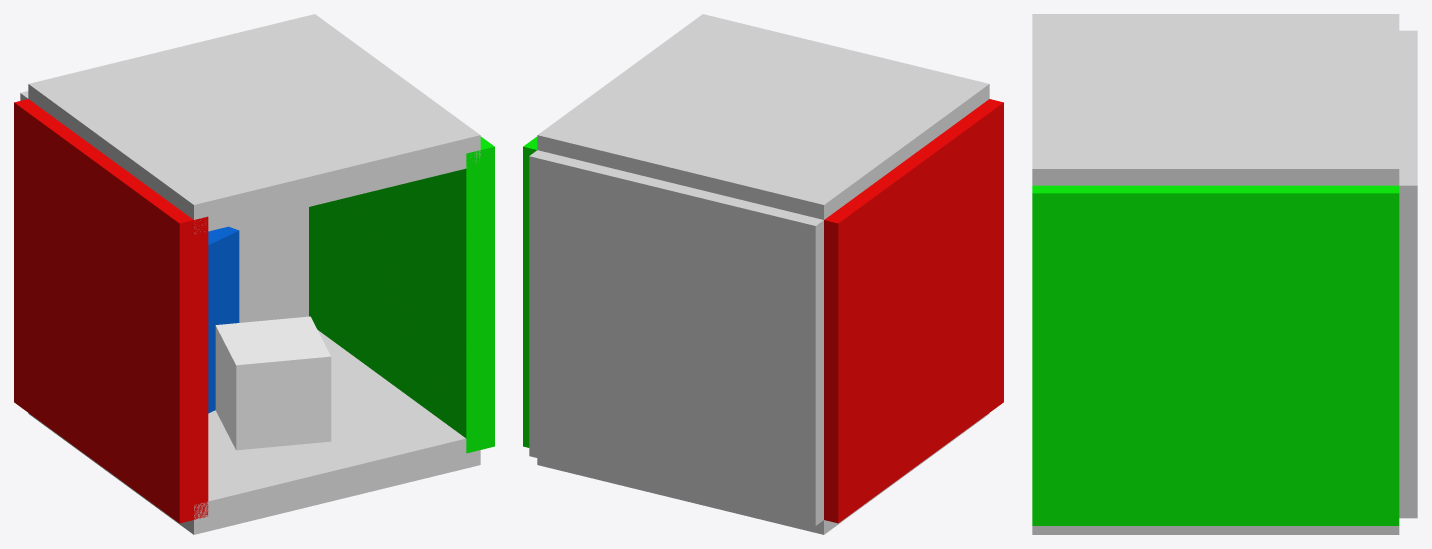
Rendered from cornell_boxes_with_mirror_2_light.glb.
3 views of the same model, side by side, from view 1: azimuth 30°, elevation 25°; view 2: azimuth 150°, elevation 25°; view 3: azimuth 270°, elevation 25° (orthographic). The views are drawn at different scales.
Visible parts, largest first — view 1: Cube.001, Cube.002, Cube.003, Cube.004, Cube.006, Cube, Cube.007; view 2: Cube, Cube.001, Cube.002, Cube.004, Cube.003; view 3: Cube.003, Cube.002, Cube, Cube.004.
Part boxes in pixels (box(x1,y1,x2,y2)): Cube.001: box(14, 99, 208, 523); Cube.002: box(28, 14, 480, 234); Cube.003: box(309, 136, 494, 453); Cube.004: box(28, 330, 480, 534); Cube.006: box(215, 316, 331, 450); Cube: box(20, 91, 308, 322); Cube.007: box(208, 226, 239, 413); Cube: box(529, 150, 823, 525); Cube.001: box(824, 99, 1003, 523); Cube.002: box(537, 14, 989, 219); Cube.004: box(537, 413, 989, 534); Cube.003: box(523, 136, 537, 447); Cube.003: box(1032, 185, 1399, 525); Cube.002: box(1032, 14, 1399, 185); Cube: box(1399, 30, 1417, 518); Cube.004: box(1032, 526, 1399, 534).
Size of the model in its own units: 2.2 by 2.2 by 2.1.
